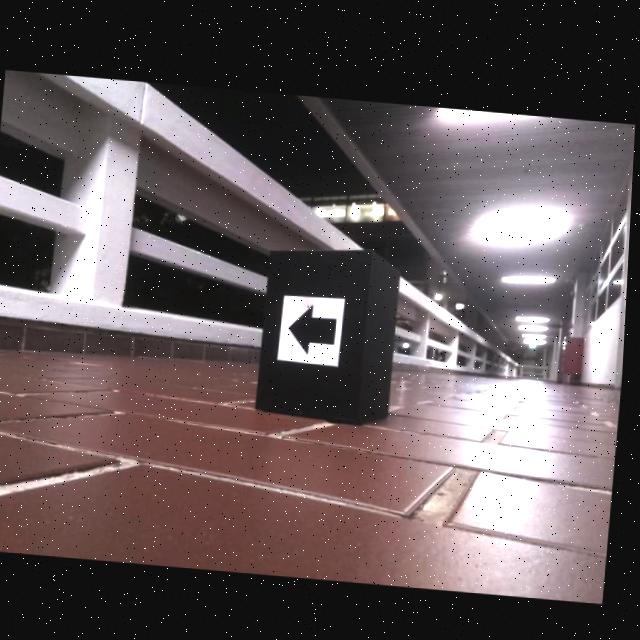LEFT: (290, 299, 340, 351)
